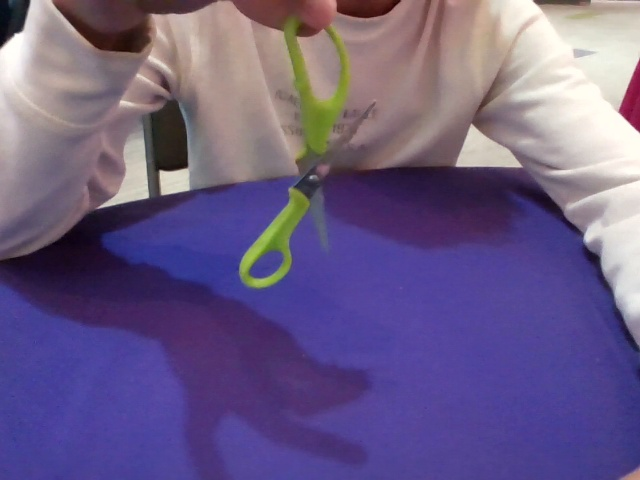tijeras: (237, 97, 377, 290)
